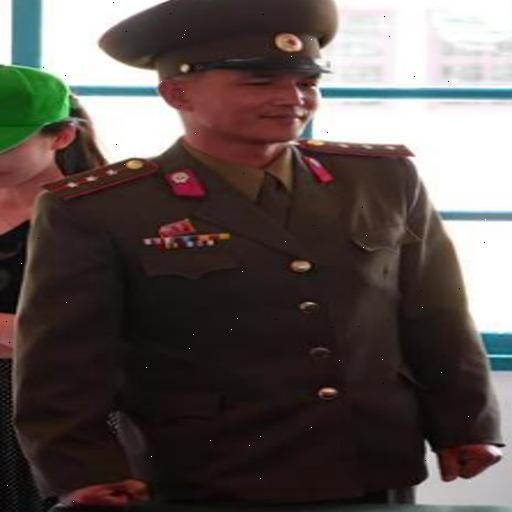north army: (60, 1, 507, 512)
